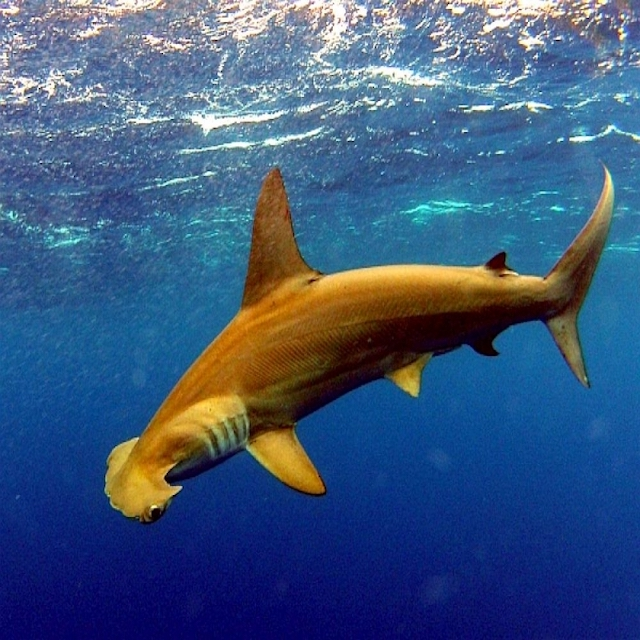hammerhead: (66, 343, 361, 537)
